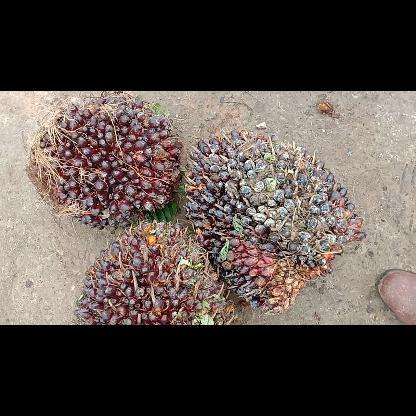Kurang masak: (22, 96, 180, 228), (75, 222, 232, 324)
TBS mentah: (187, 130, 366, 314)
